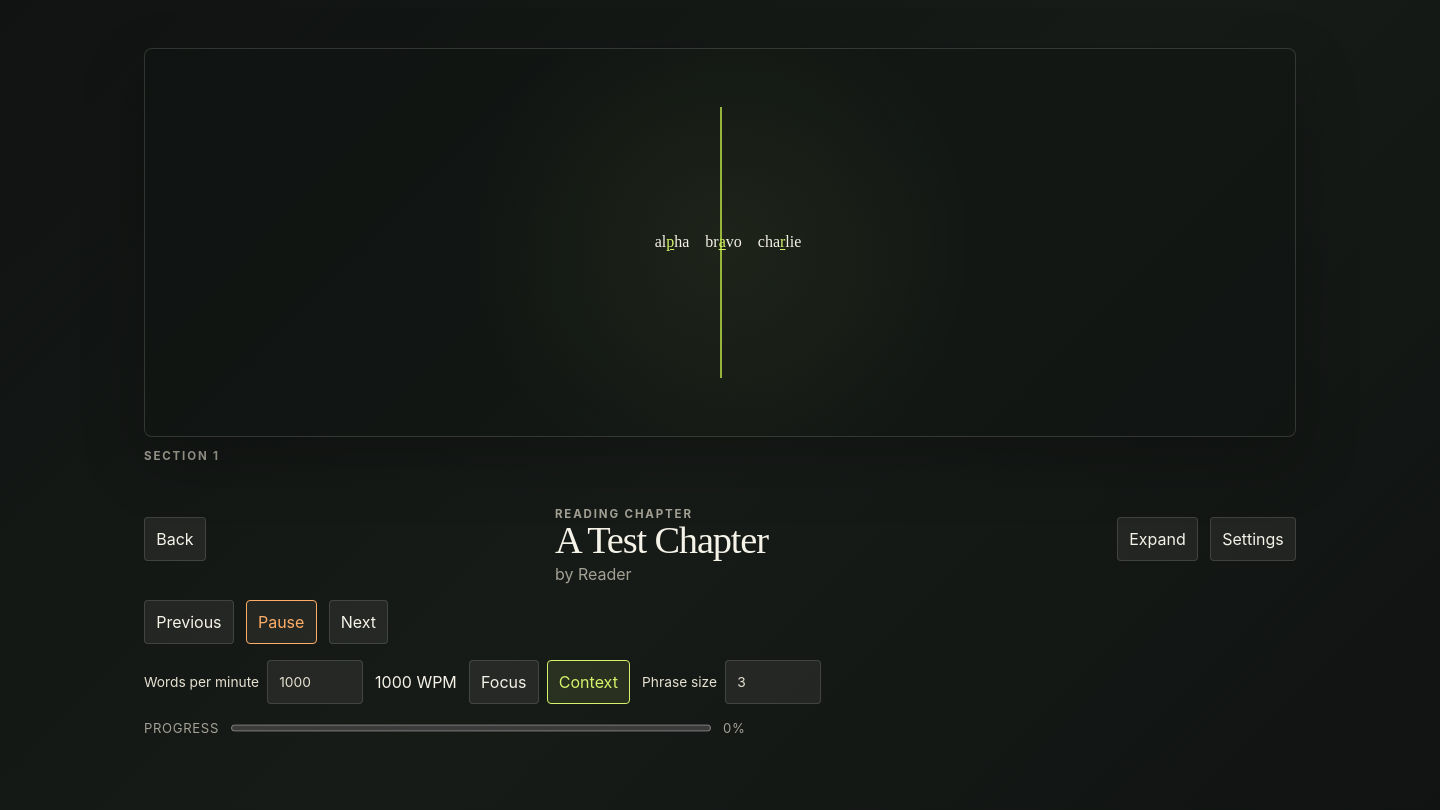
Test: reader surface › restores persisted context mode and supports context peek
This screenshot has width=1440, height=810.
expect the button "Pause" is shown: met, box [246,600,316,644]
expect the element with test id "reader-context" is shown: met, box [639,234,801,250]
Click the button "Focus" at (504,682), box [469,660,539,704]
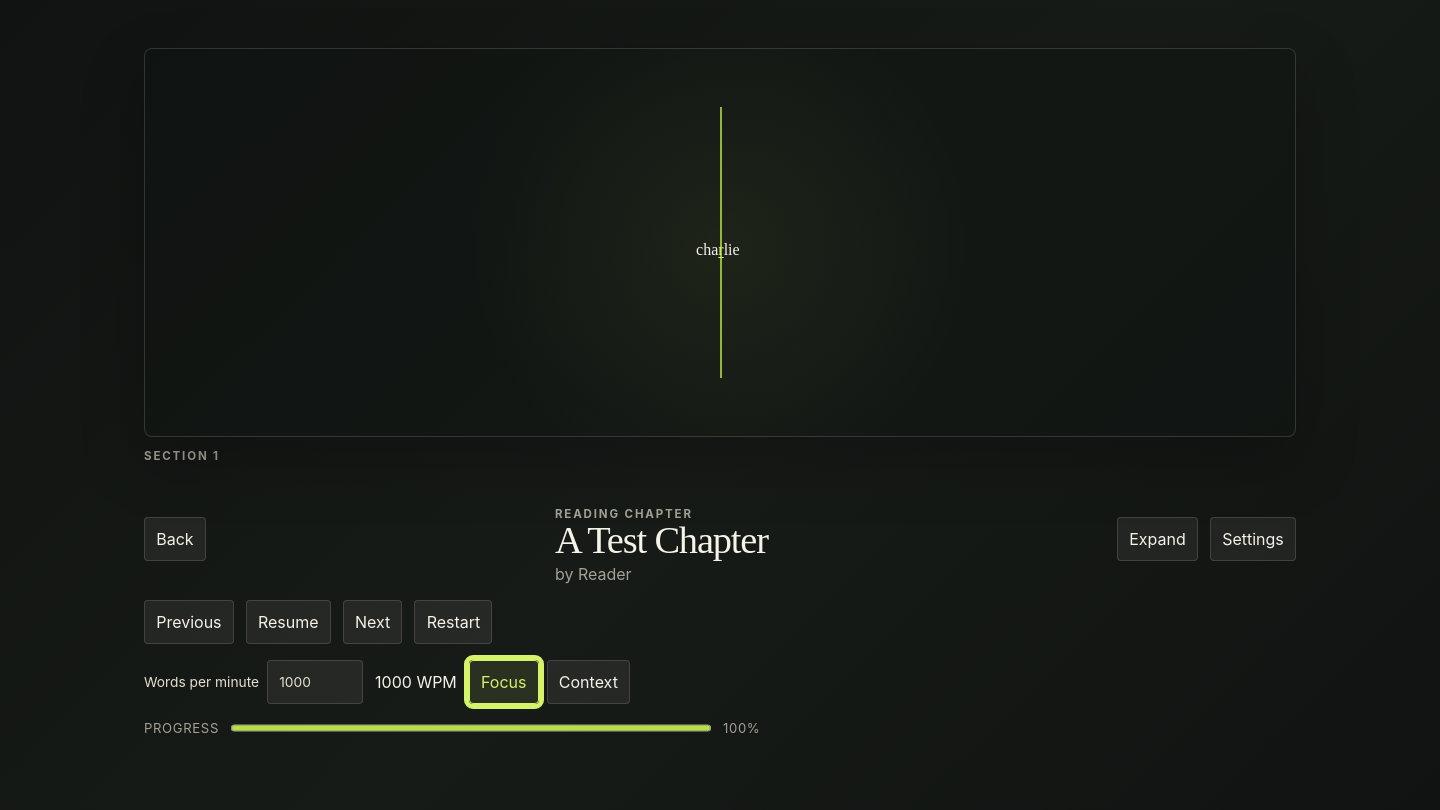
expect the button "Context" is shown: met, box [547,660,630,704]
expect the element with test id "reader-context" is gone: met
